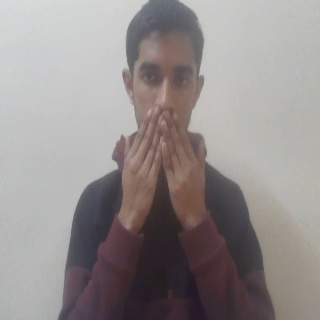Thank You: (114, 107, 222, 240)
